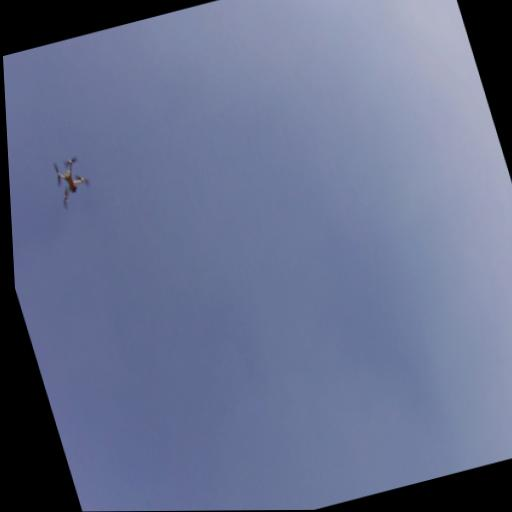drones: (46, 150, 98, 214)
